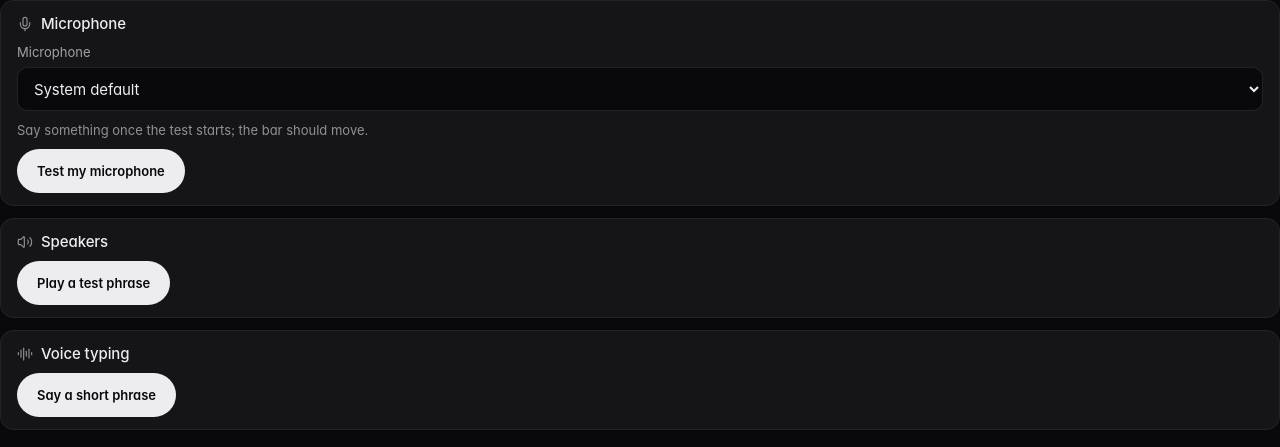
Scenario: reports a working microphone from its level, and lets the owner pick a device
Select "Desk mic" in the dropdown at {"x": 640, "y": 89}, box [17,67,1263,111]
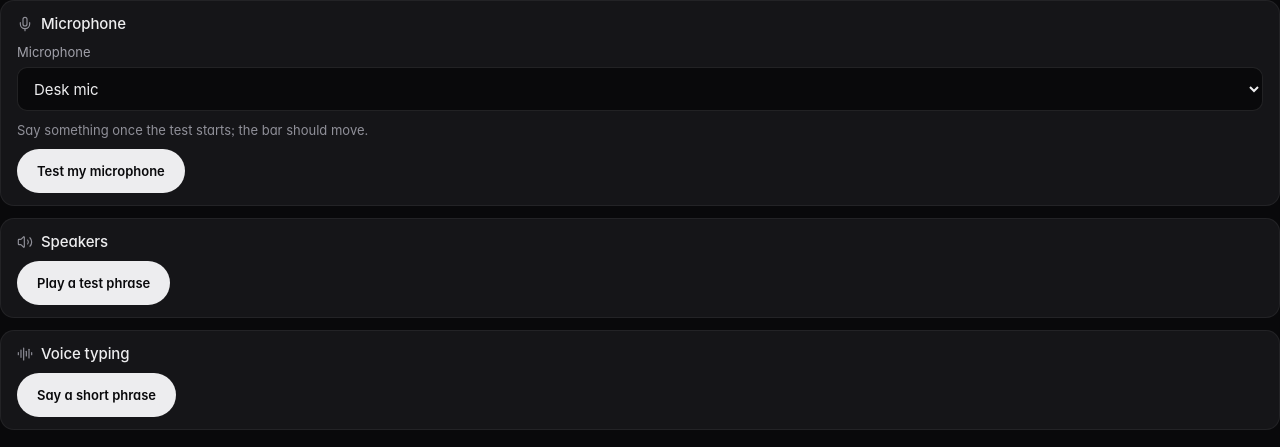
Click the button "Test my microphone" at {"x": 101, "y": 171}, box [17,149,185,193]
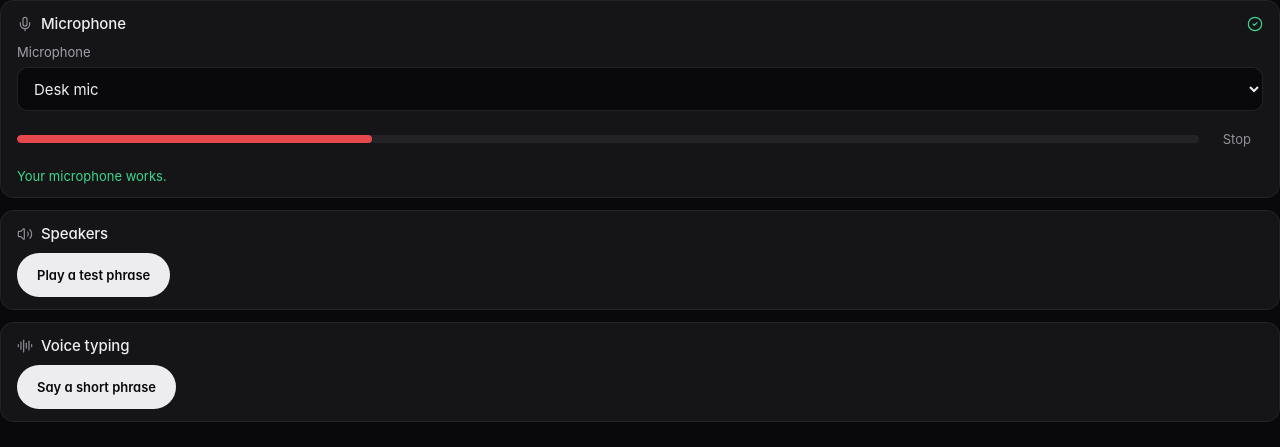
Now the text "Your microphone works." is shown, box [17,168,167,184]
